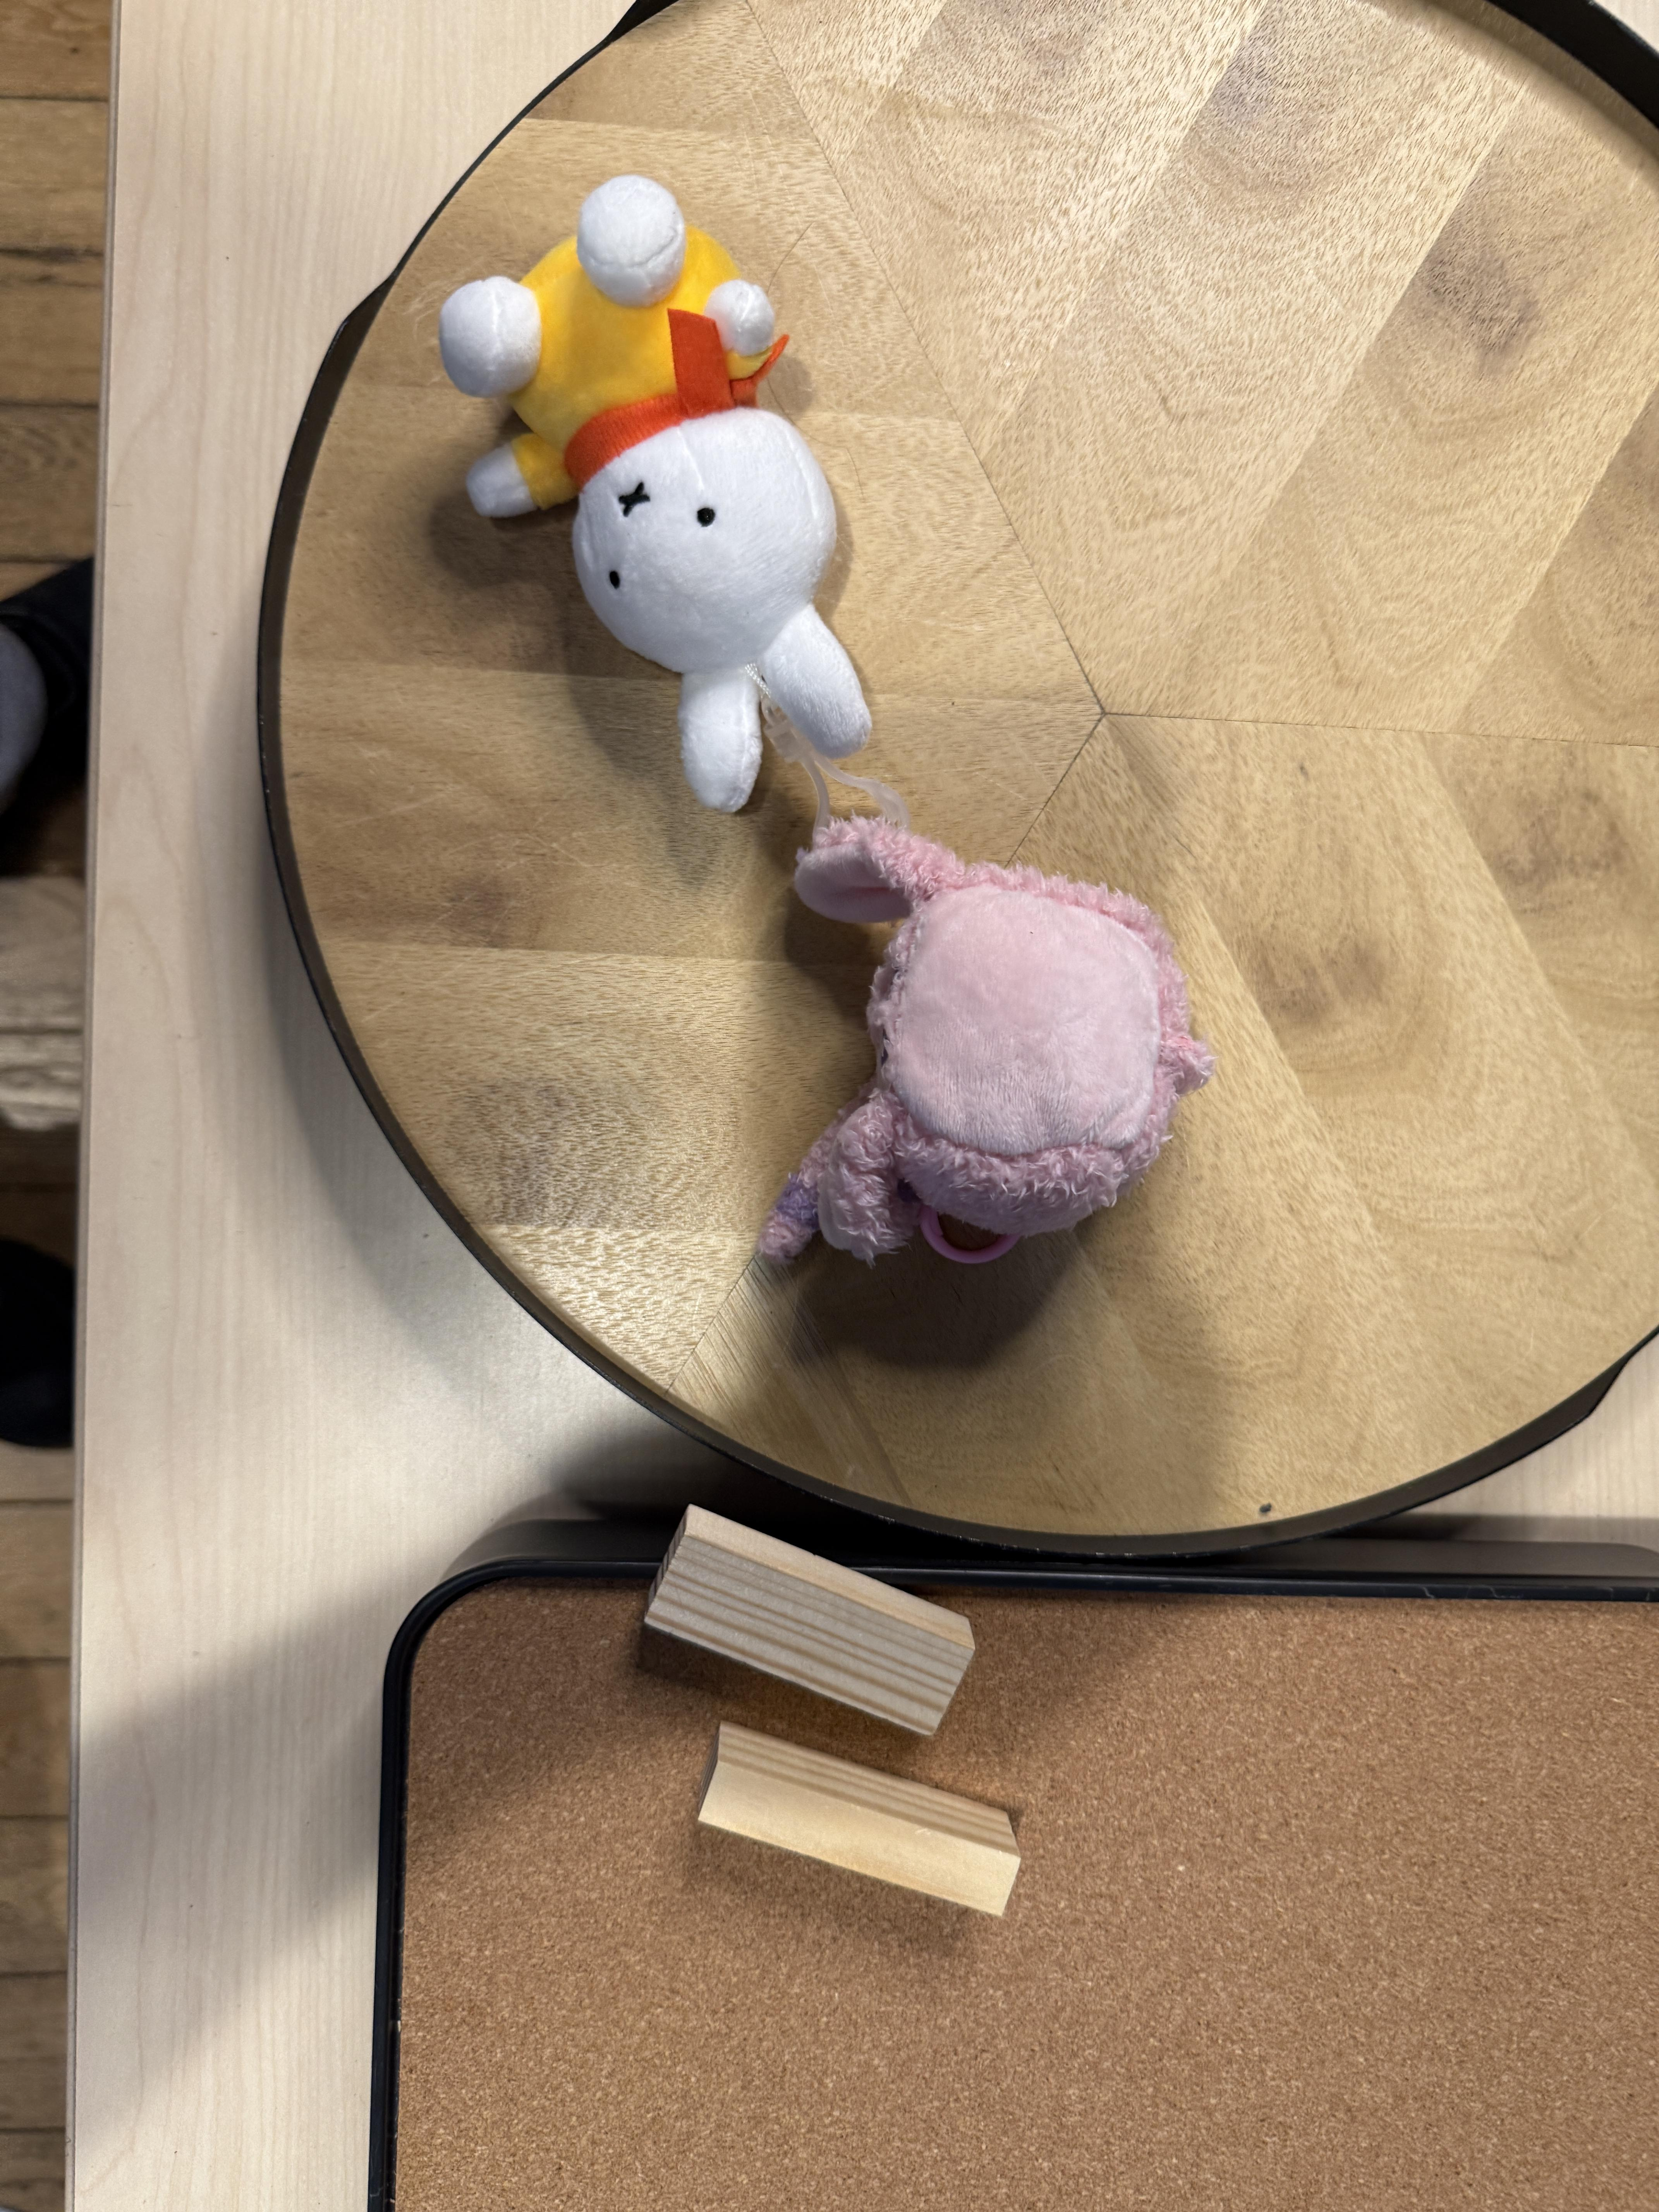block: (634, 1510, 988, 1743), (694, 1716, 1033, 1926)
doll: (441, 178, 877, 812), (751, 805, 1211, 1284)
